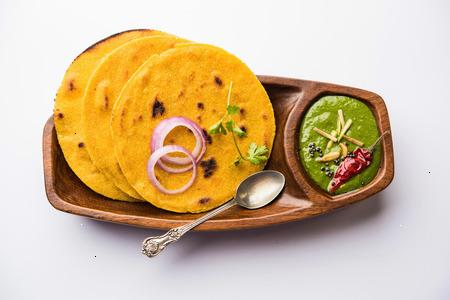saag: (302, 94, 385, 197)
